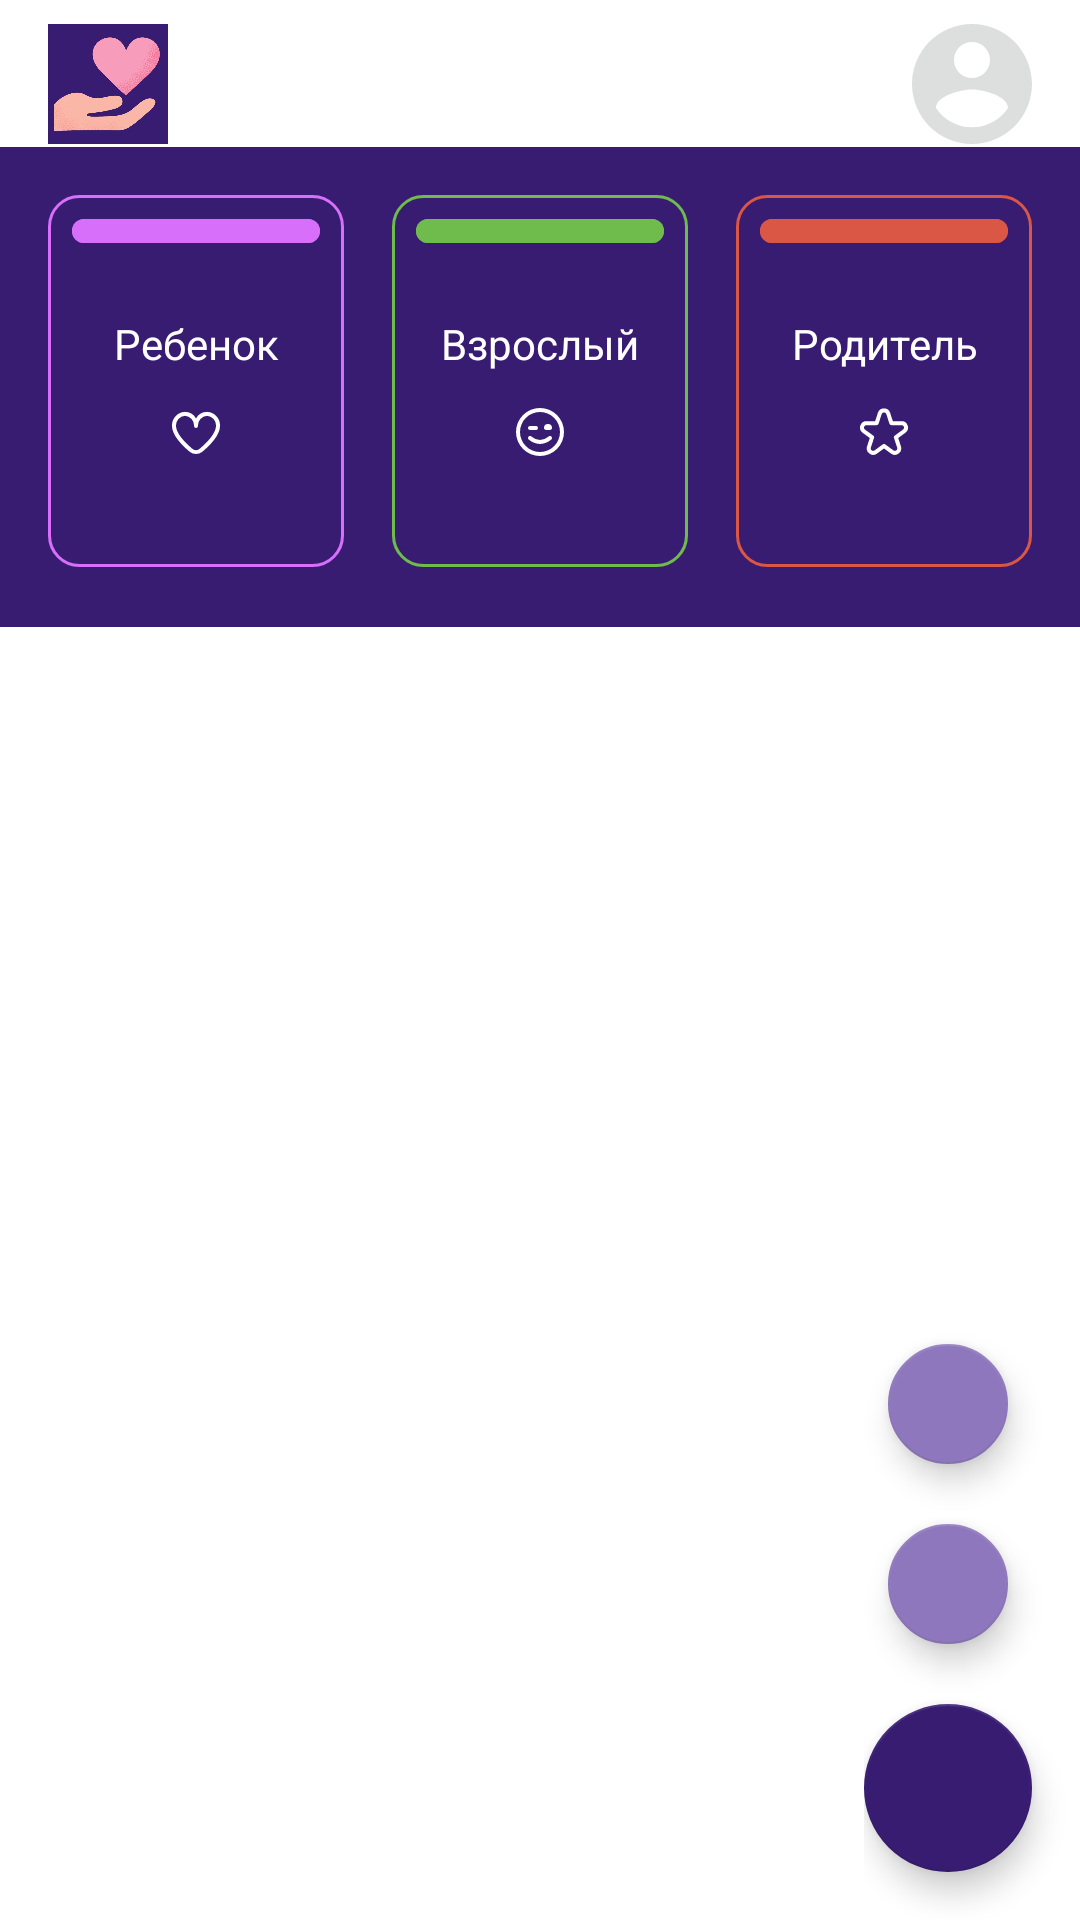

Icons on this 1080×1920 Android screen, each with its box as (x1, y1, x2, y2):
profile: (912, 24, 1032, 144)
